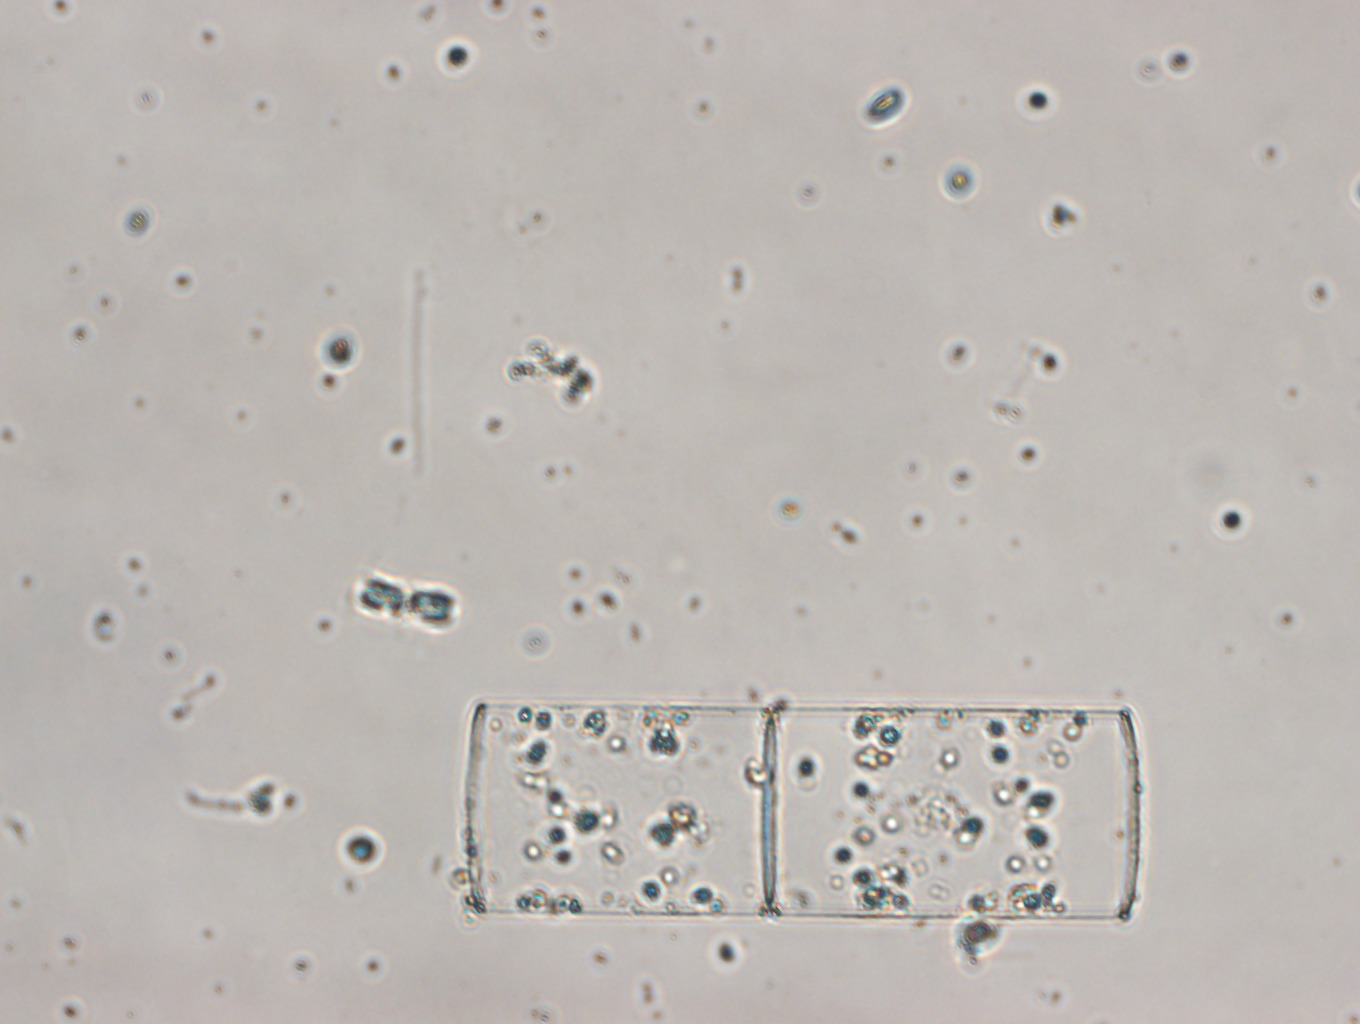guinardia flaccida: (463, 703, 1142, 923)
